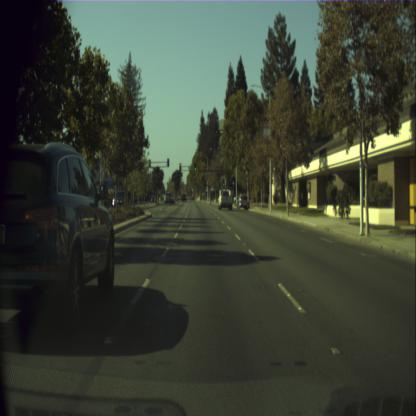Green: (232, 176, 235, 184), (194, 162, 196, 171), (223, 178, 224, 186)
Red: (179, 162, 181, 171), (179, 182, 181, 187)
